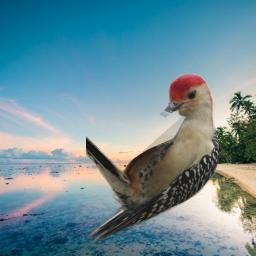Woodpecker: (86, 73, 219, 249)
